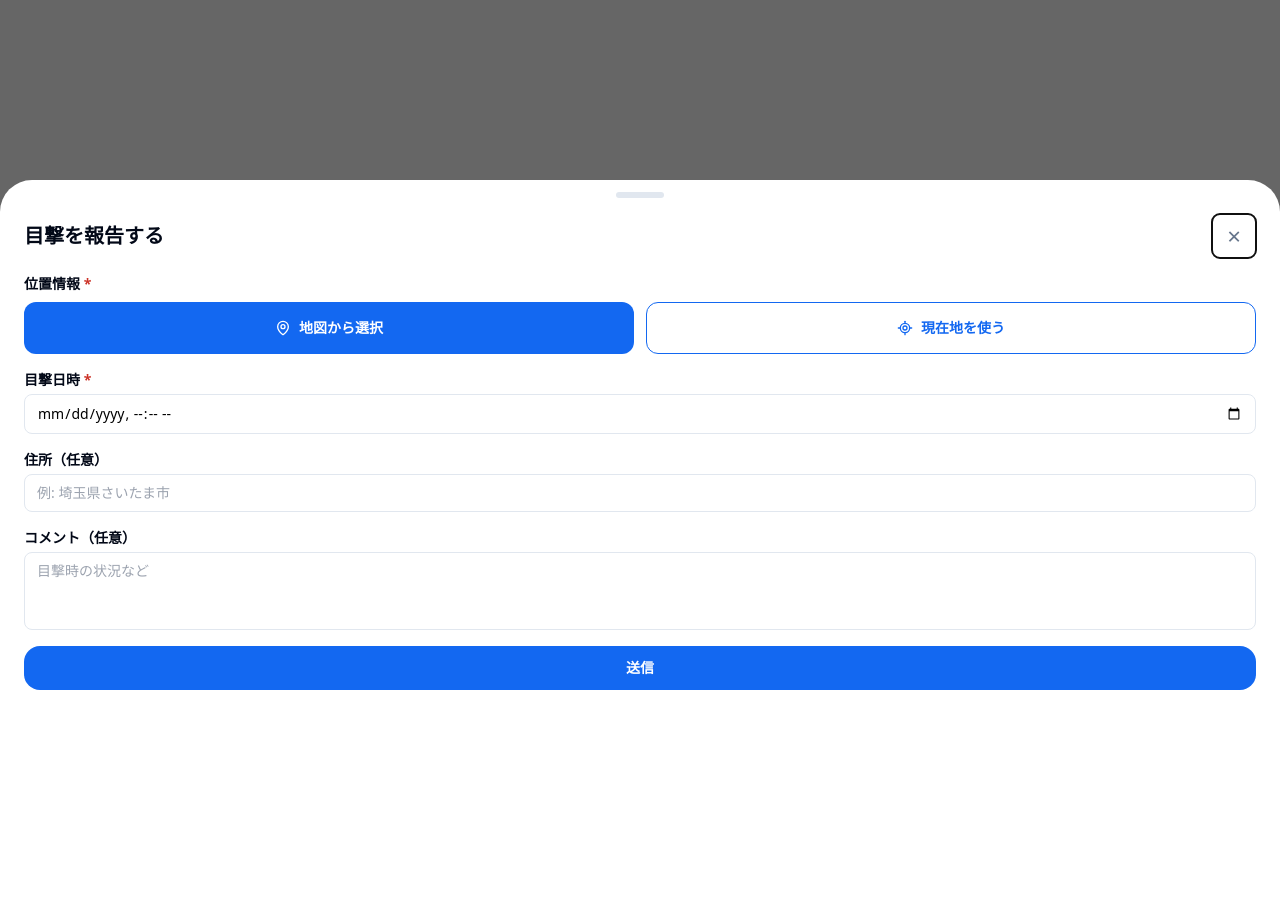
Test: SightingModal › 現在地を使う › 「現在地を使う」クリックで geolocation が呼ばれ、位置が表示されること
Step 1. Click the button "現在地を使う" → (951, 328), box [646,302,1256,354]
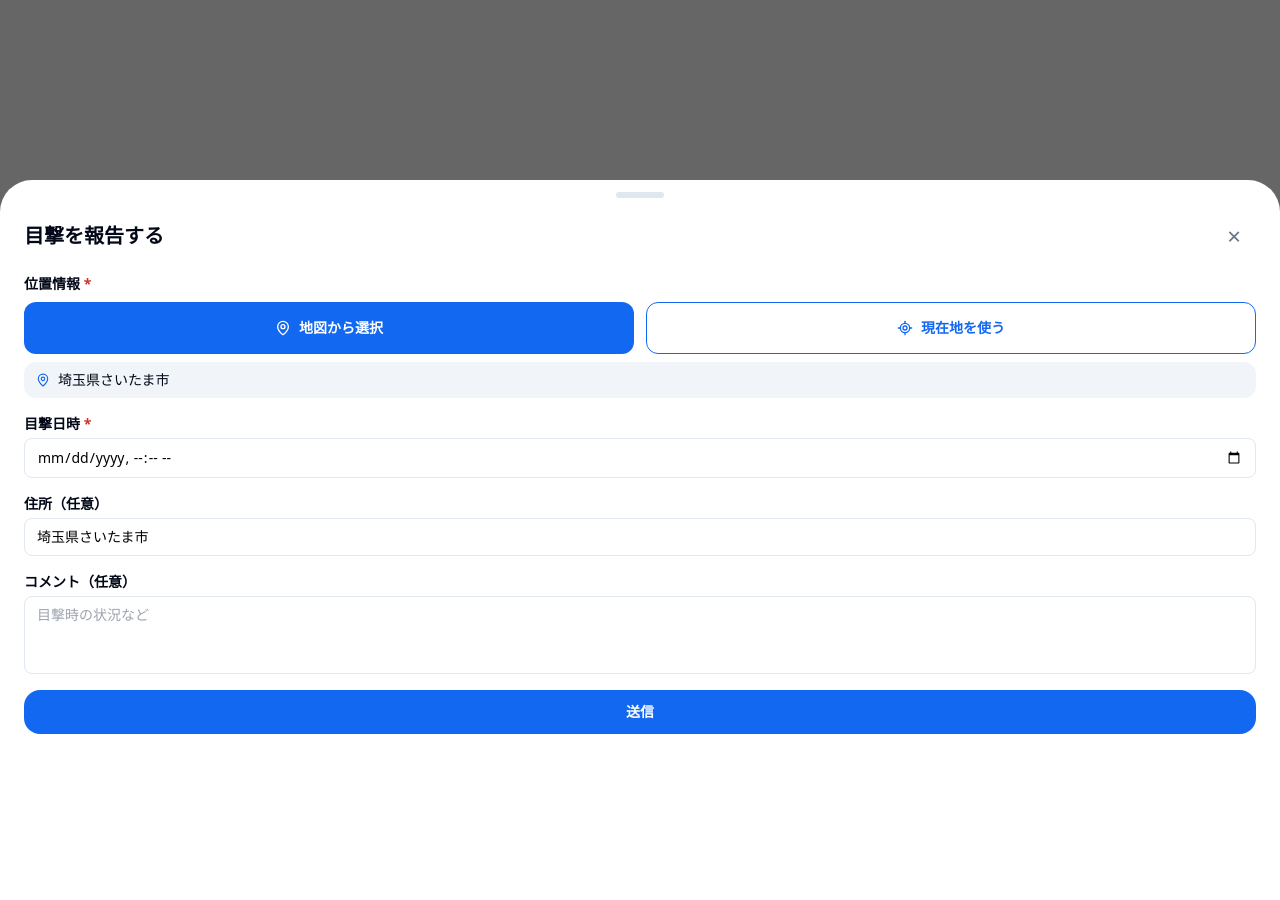
Now the text "埼玉県さいたま市" is shown, box [58,370,170,390]
